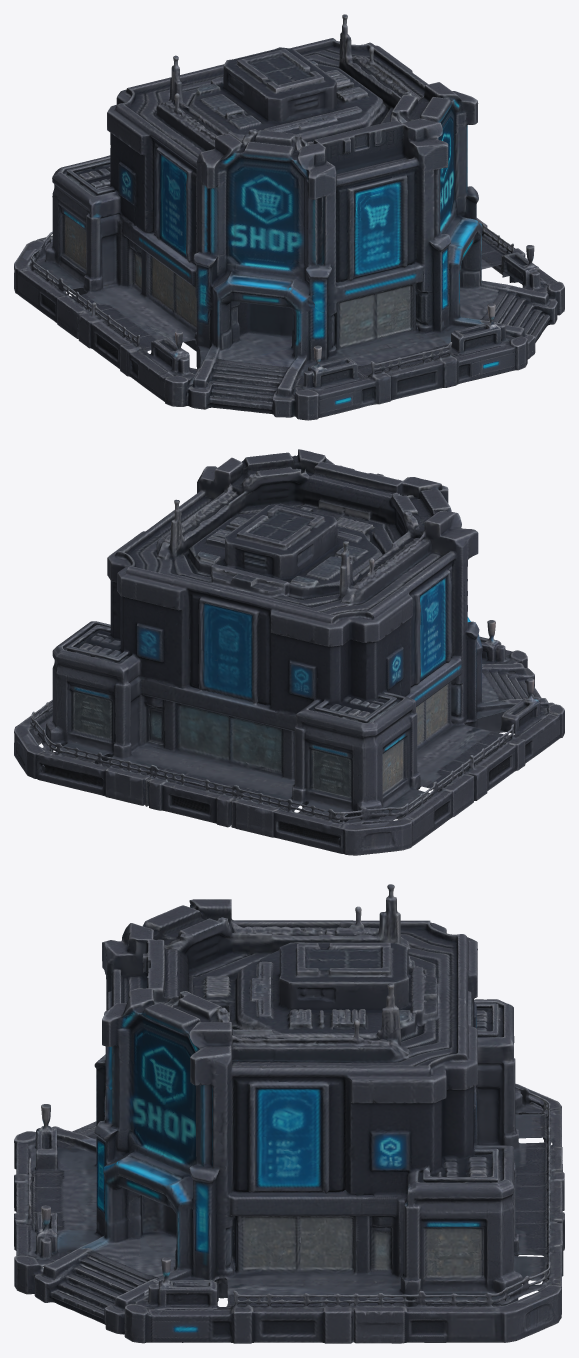
The model's file is Meshy_AI_Neon_Nexus_Market_1011204042_texture.glb.
3 views of the same model, one above another, from view 1: azimuth 30°, elevation 25°; view 2: azimuth 150°, elevation 25°; view 3: azimuth 270°, elevation 25° (orthographic). The views are drawn at different scales.
Size of the model in its own units: 1.9 by 1.11 by 1.9.
1 material, 1 textured.
